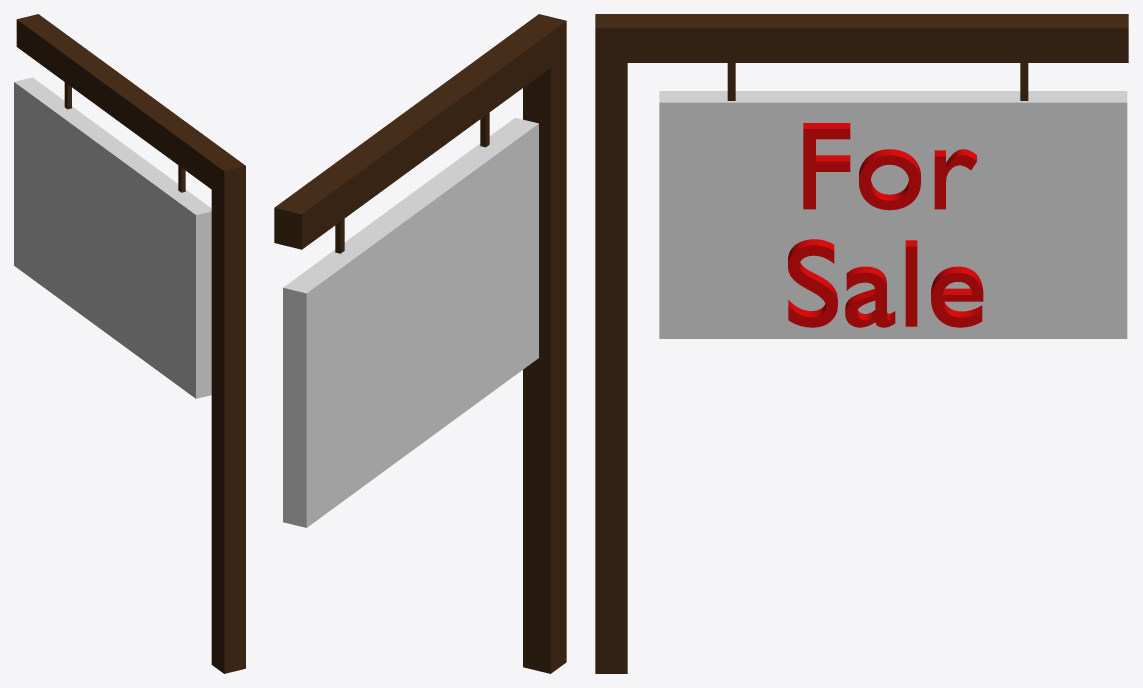
File: Sign.fbx
3 renders of one model, left to right at view 1: azimuth 30°, elevation 25°; view 2: azimuth 150°, elevation 25°; view 3: azimuth 270°, elevation 25°, orthographic. The views are drawn at different scales.
Parts seen in each view (by area): view 1: Cube.2321, Cube.2322; view 2: Cube.2321, Cube.2322; view 3: Cube.2321, Cube.2322, Text.
Part boxes in pixels (left/top/right/bottom): Cube.2321: left=14, top=77, right=211, bottom=398; Cube.2322: left=16, top=14, right=245, bottom=673; Cube.2321: left=283, top=117, right=538, bottom=527; Cube.2322: left=274, top=14, right=566, bottom=673; Cube.2321: left=659, top=91, right=1127, bottom=338; Cube.2322: left=595, top=14, right=1128, bottom=673; Text: left=788, top=123, right=983, bottom=327.
Size of the model in its own units: 35.32 by 551 by 412.
